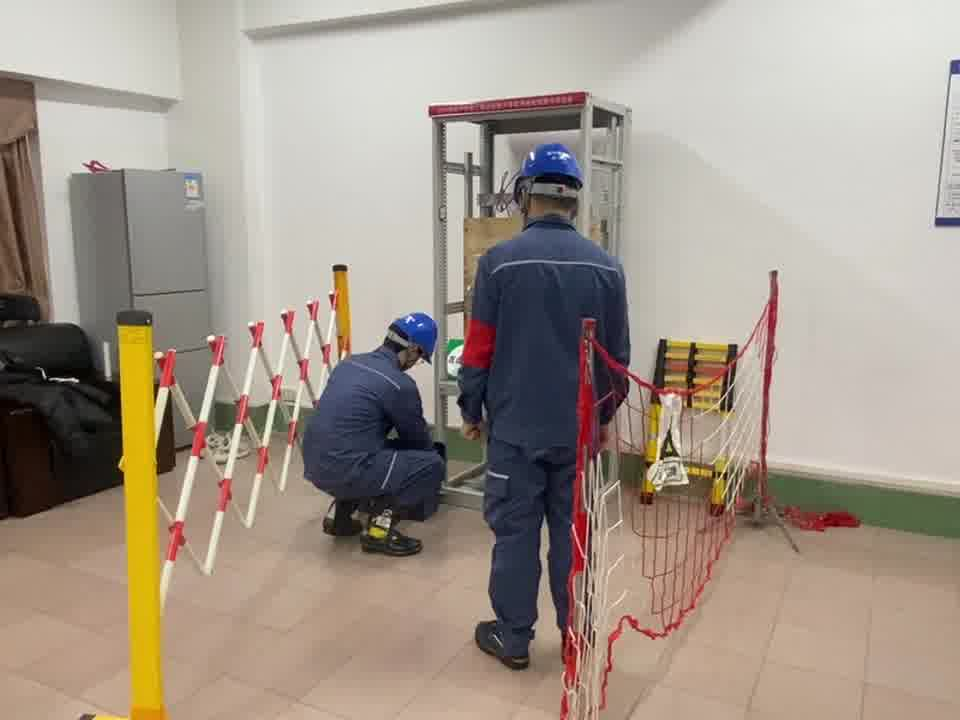badge: (461, 318, 497, 370)
downsuit: (484, 459, 580, 640)
halt: (510, 140, 588, 218), (387, 311, 440, 370)
hand: (455, 421, 483, 443)
inear: (512, 186, 544, 215)
person: (455, 139, 637, 667), (302, 306, 444, 531)
shoe: (321, 497, 417, 555)
upsuit: (462, 220, 631, 445), (302, 351, 427, 480)
worksign: (442, 338, 464, 380)
